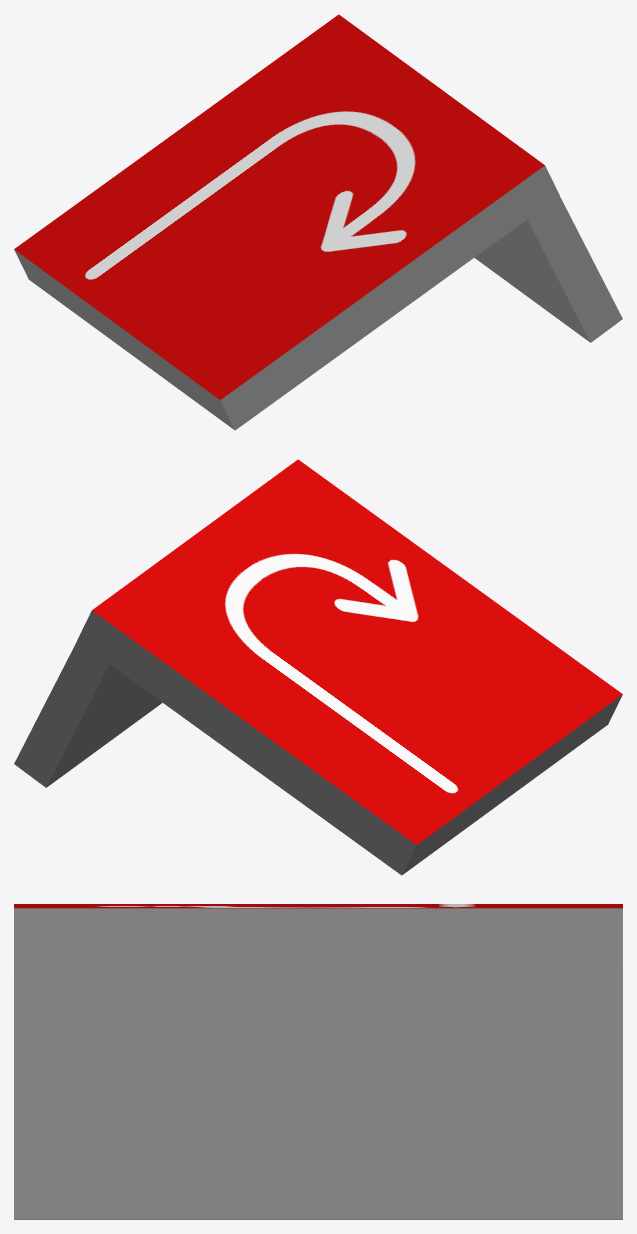
The model's file is hairpinR.fbx.
3 renders of one model, top to bottom at view 1: azimuth 30°, elevation 25°; view 2: azimuth 150°, elevation 25°; view 3: azimuth 270°, elevation 25°, orthographic. The views are drawn at different scales.
Parts seen in each view (by area): view 1: sign_back; view 2: sign_back; view 3: sign_back.
Boxes of the visible parts, x1=… form: sign_back: x1=14, y1=14, x2=622, y2=430; sign_back: x1=14, y1=459, x2=622, y2=875; sign_back: x1=14, y1=904, x2=622, y2=1219.
Size of the model in its own units: 225 by 101 by 200.
